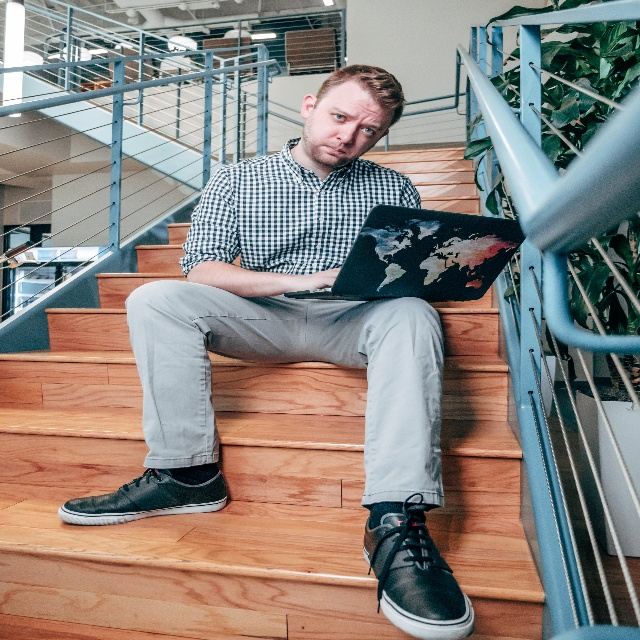Sin_guantes: (311, 266, 342, 288)
